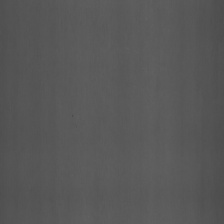inclusion: (67, 110, 79, 131)
